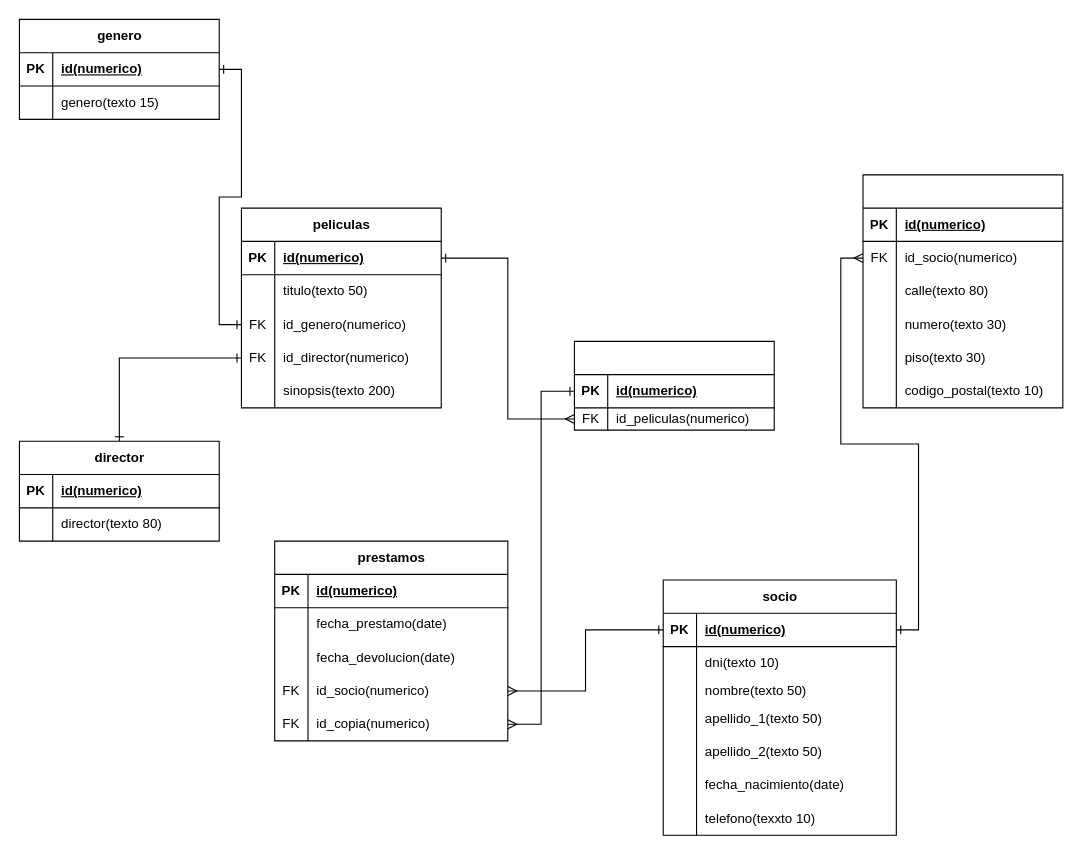
Image size: 1082x855. Some labels were removed from this diagram. The box of each missing label's shape, as (x1, y1, x2, y2) in pixels:
copia_pelicula: (573, 340, 774, 430)
direccion: (862, 174, 1063, 408)
